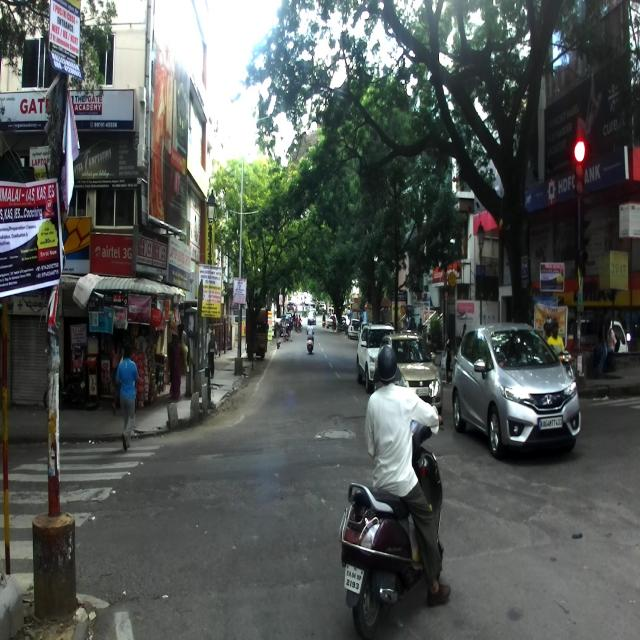car: (451, 323, 581, 459), (373, 330, 443, 415)
scooter: (338, 379, 444, 639)
